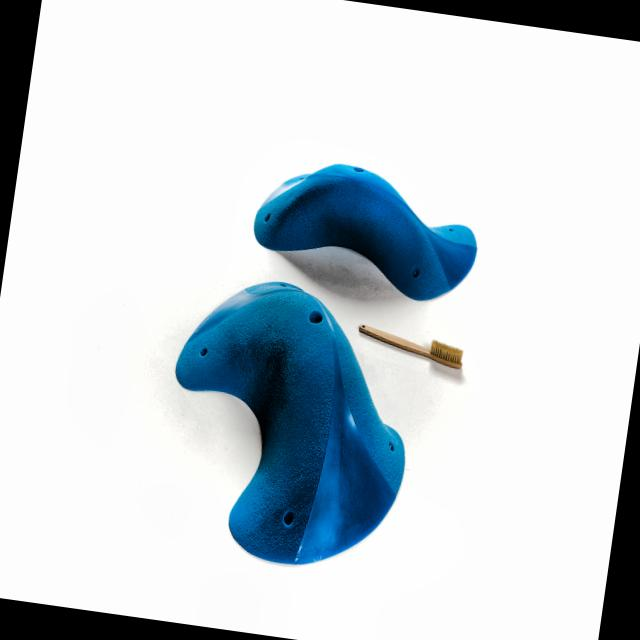Hold: (151, 264, 419, 582), (248, 147, 490, 310)
